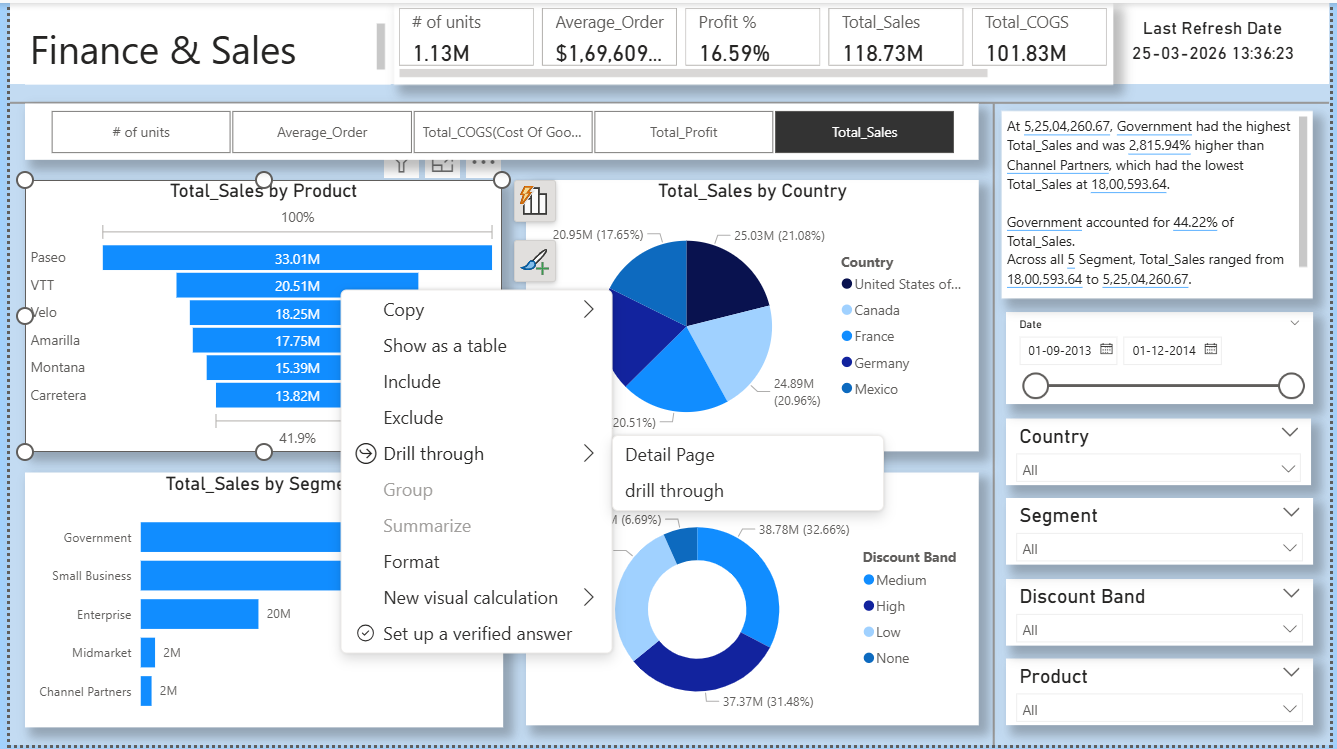

The page's visual inventory and layout, read from the dashboard file:
{"tool":"powerbi","page":{"name":"Main Page","canvas":[1280,720],"ordinal":0},"visuals":[{"type":"shape","box":[0,0,1280,78.6],"z":0},{"type":"shape","box":[937.7,97.2,34.4,623.8],"z":2000},{"type":"textbox","box":[14.2,14.2,354.4,64.8],"z":3000},{"type":"card","title":"Last Refresh Date","fields":{"Values":["Min(LastRefreshDate.LastRefresh)"]},"box":[1070.4,15.1,194.5,48.4],"z":4000},{"type":"cardVisual","fields":{"Data":["financials.# of units","financials.Average_Order","financials.Profit %","financials.Total_Sales","financials.Total_COGS(Cost Of Goods Sold)","financials.Total_Profit"]},"box":[372.4,0,697.9,79.3],"z":4001},{"type":"funnel","fields":{"Category":["financials.Product"],"Y":["financials.Total_Sales"]},"box":[14.6,171.8,462.9,263.5],"z":4002},{"type":"barChart","fields":{"Category":["financials.Segment"],"Y":["financials.Total_Sales"]},"box":[14.2,455.7,463.8,247.1],"z":4003},{"type":"donutChart","fields":{"Category":["financials.Discount Band"],"Y":["financials.Total_Sales"]},"box":[500.3,455.7,439.5,245.1],"z":4004},{"type":"pieChart","fields":{"Category":["financials.Country"],"Y":["financials.Total_Sales"]},"box":[500.7,171.8,439.6,263.5],"z":4005},{"type":"shape","box":[0,88.6,1280,16.1],"z":4006},{"type":"slicer","fields":{"Values":["financials.Product"]},"box":[966.1,635.9,297.7,64.8],"z":4007},{"type":"slicer","fields":{"Values":["financials.Country"]},"box":[966.7,403.2,296.3,64.8],"z":4008},{"type":"slicer","fields":{"Values":["financials.Discount Band"]},"box":[966.1,559,297.7,64.8],"z":4010},{"type":"slicer","fields":{"Values":["financials.Date"]},"box":[966.1,299.7,297.7,89.1],"z":4011},{"type":"slicer","fields":{"Values":["financials.Segment"]},"box":[966.1,480,297.7,64.8],"z":4012},{"type":"slicer","fields":{"Values":["Parameter 2.Parameter"]},"box":[14.2,97.2,925.6,54.7],"z":4013},{"type":"textbox","box":[962,105.3,301.8,182.3],"z":4014}]}

Visuals, with their boxes on the page's 1280x720 design canvas (x1, y1, x2, y2). These are canvas units, not pixel positions in the 1337x749 screenshot, which may show the page scaled, cropped or inside an application window:
shape: [0,0,1280,79]
shape: [938,97,972,721]
textbox: [14,14,369,79]
"Last Refresh Date" card: [1070,15,1265,64]
cardVisual - financials.# of units x financials.Average_Order: [372,0,1070,79]
funnel - financials.Product x financials.Total_Sales: [15,172,478,435]
barChart - financials.Segment x financials.Total_Sales: [14,456,478,703]
donutChart - financials.Discount Band x financials.Total_Sales: [500,456,940,701]
pieChart - financials.Country x financials.Total_Sales: [501,172,940,435]
shape: [0,89,1280,105]
slicer - financials.Product: [966,636,1264,701]
slicer - financials.Country: [967,403,1263,468]
slicer - financials.Discount Band: [966,559,1264,624]
slicer - financials.Date: [966,300,1264,389]
slicer - financials.Segment: [966,480,1264,545]
slicer - Parameter 2.Parameter: [14,97,940,152]
textbox: [962,105,1264,288]
